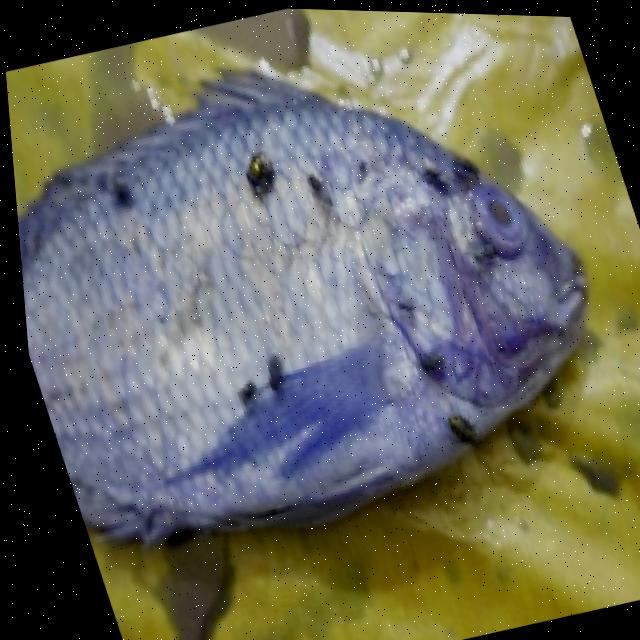Non-Fresh: (4, 61, 547, 567), (440, 163, 540, 268)
